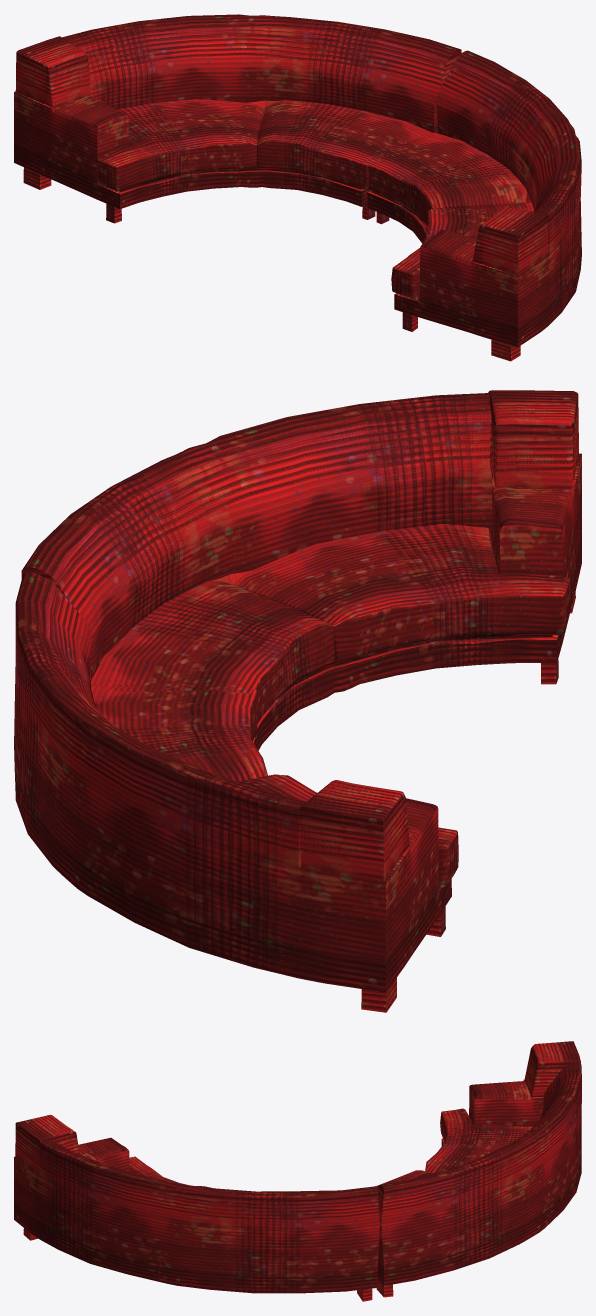
Rendered from sofa.glb.
3 views of the same model, one above another, from view 1: azimuth 30°, elevation 25°; view 2: azimuth 150°, elevation 25°; view 3: azimuth 270°, elevation 25° (orthographic). The views are drawn at different scales.
Parts seen in each view (by area): view 1: Cube.011, Cube.008; view 2: Cube.008, Cube.011; view 3: Cube.008, Cube.011.
Boxes of the visible parts, box(x1,y1,x2,y2) form: Cube.011: box(14, 14, 461, 223); Cube.008: box(364, 50, 581, 361); Cube.008: box(21, 390, 581, 750); Cube.011: box(14, 573, 458, 1012); Cube.008: box(14, 1114, 379, 1301); Cube.011: box(374, 1041, 581, 1297).
Bounding box in the file's own units: 3.03 × 1.04 × 4.67.
1 material, 1 textured.
